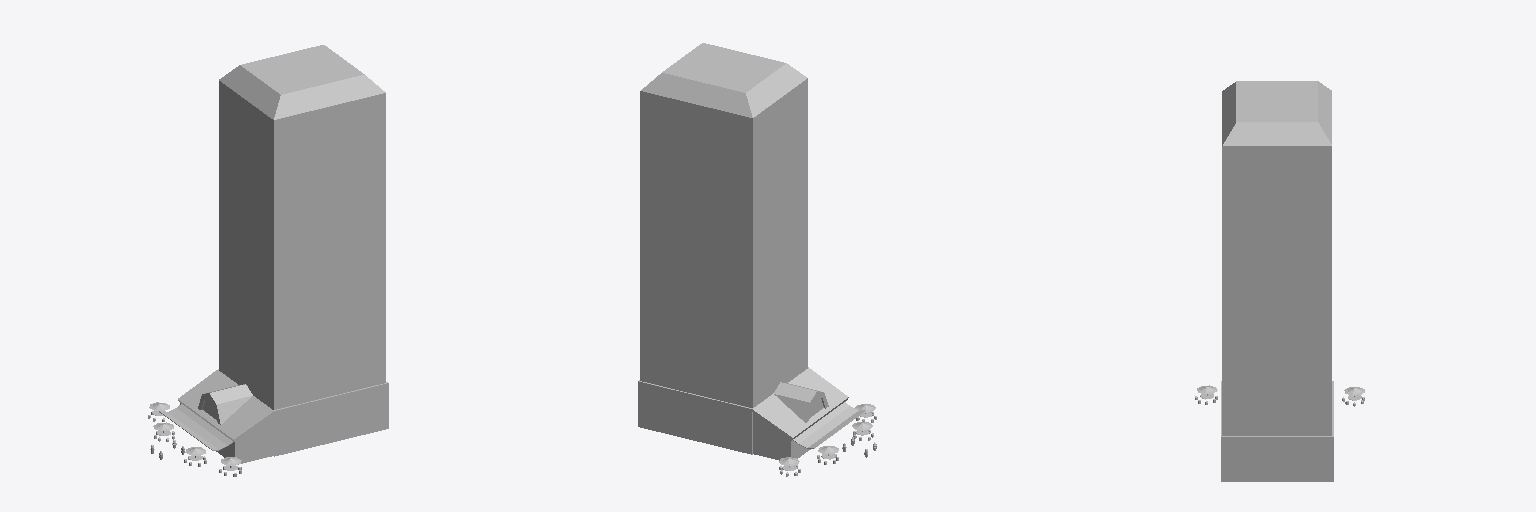
Rendered from PoiCafe.obj.
3 renders of one model, left to right at view 1: azimuth 30°, elevation 25°; view 2: azimuth 150°, elevation 25°; view 3: azimuth 270°, elevation 25°, orthographic.
Visible parts, largest first — view 1: Cafe PROPS; view 2: Cafe PROPS; view 3: Cafe PROPS.
Boxes of the visible parts, x1=… form: Cafe PROPS: x1=148, y1=45, x2=388, y2=476; Cafe PROPS: x1=638, y1=43, x2=876, y2=476; Cafe PROPS: x1=1195, y1=81, x2=1364, y2=481.
Size of the model in its own units: 12.99 by 21.25 by 9.34.